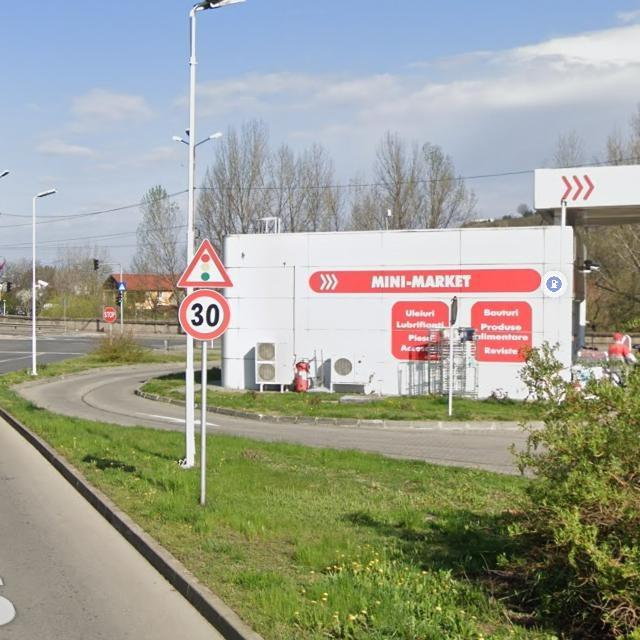forb_speed_over_30: (178, 291, 231, 341)
prio_stop: (104, 307, 117, 322)
